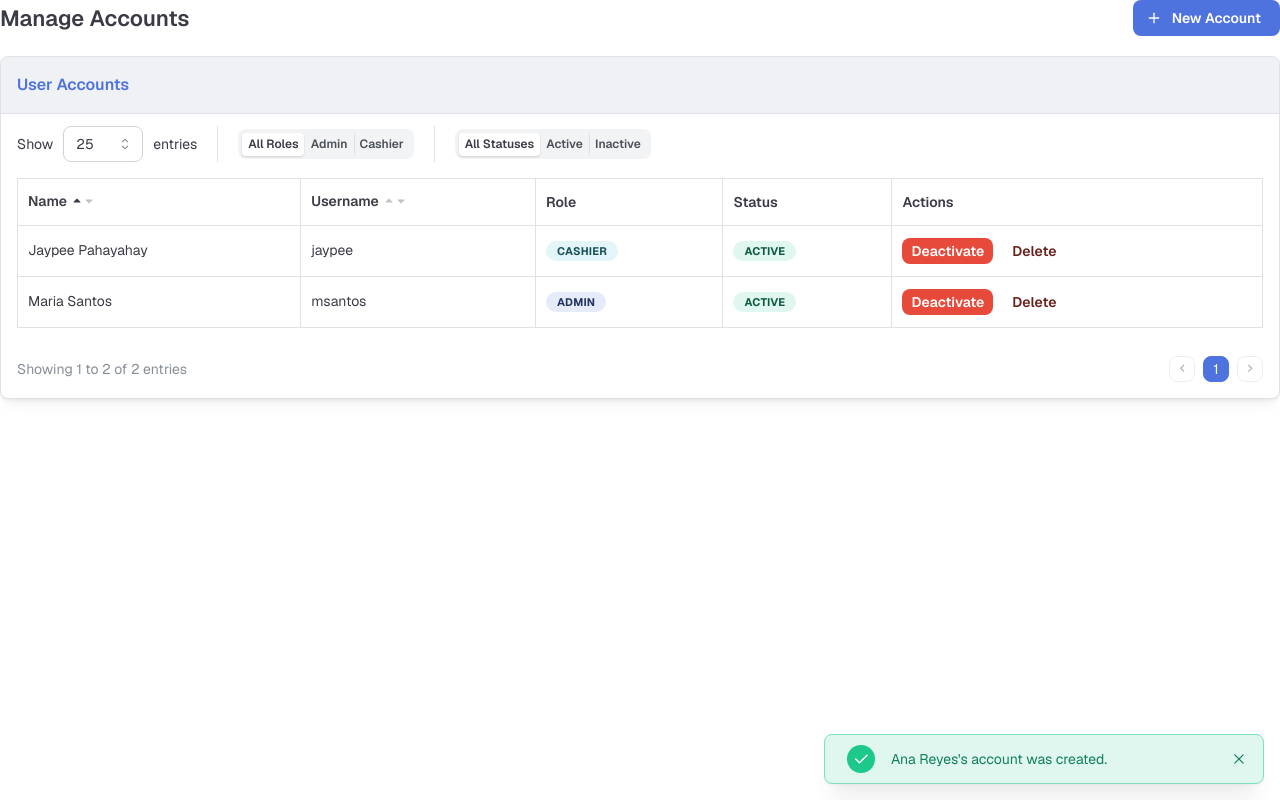
Scenario: ManageAccountsPage › shows the server's duplicate-username message against the username field
Expected: the text "Jaypee Pahayahay" is shown, [18,225,301,276]
Click the button "New Account" at (1206, 18), box [1133,0,1279,36]
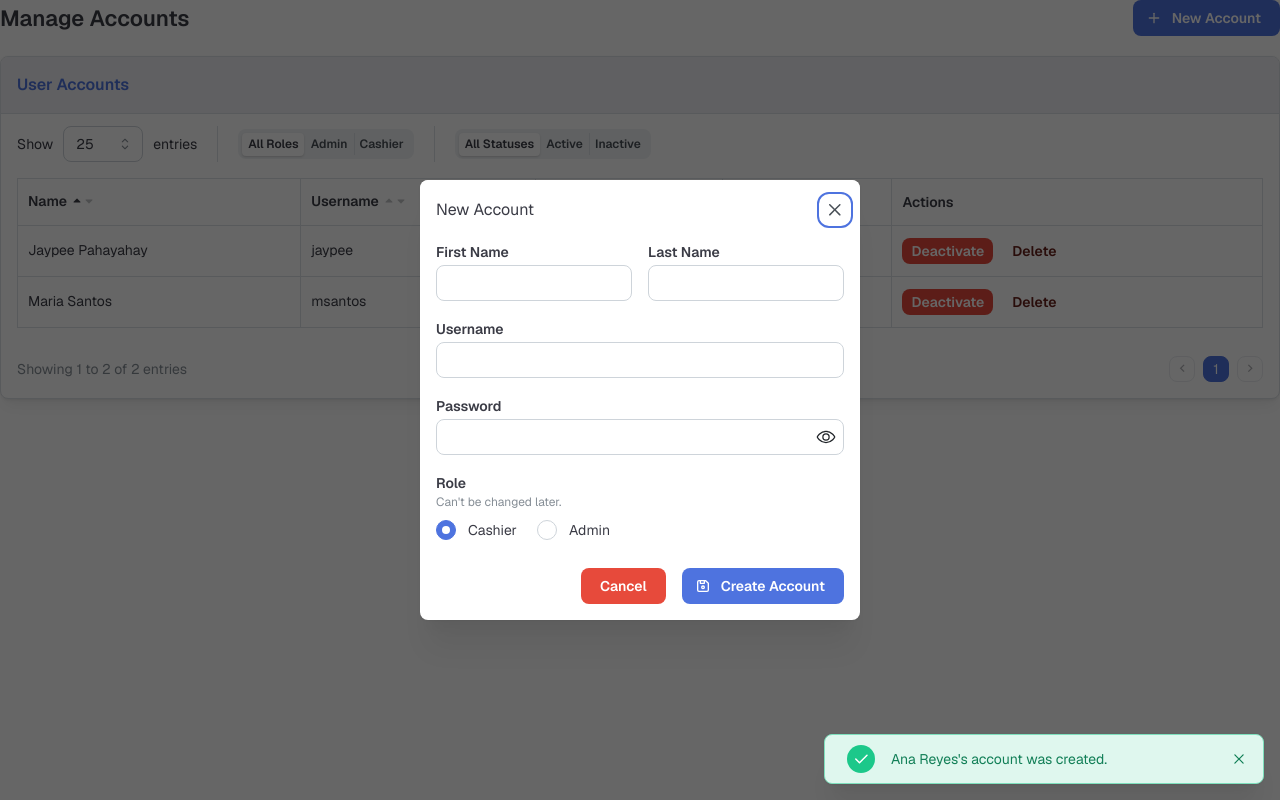
Expected: the field labelled "First Name" is shown
Type "Ana" into the field labelled "First Name" at (534, 283), box [436,265,632,301]
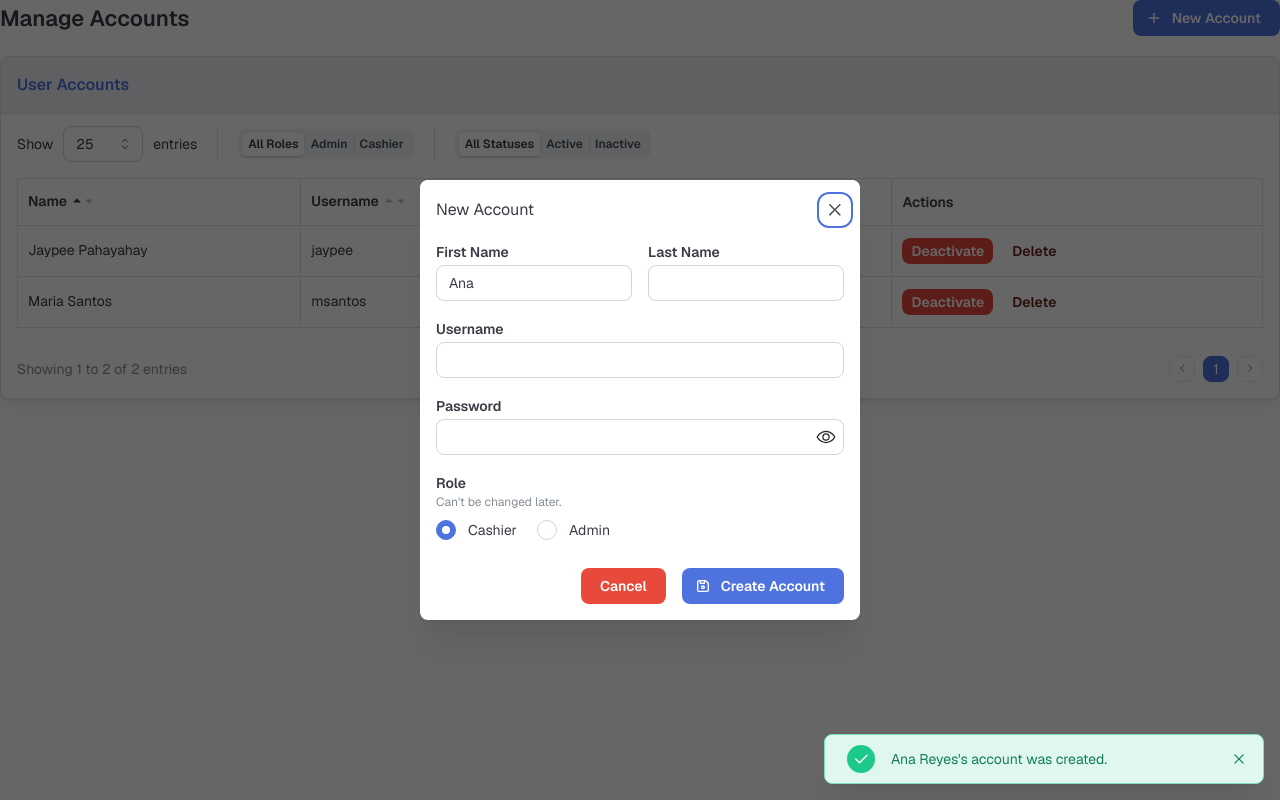
Type "Reyes" into the field labelled "Last Name" at (746, 283), box [648,265,844,301]
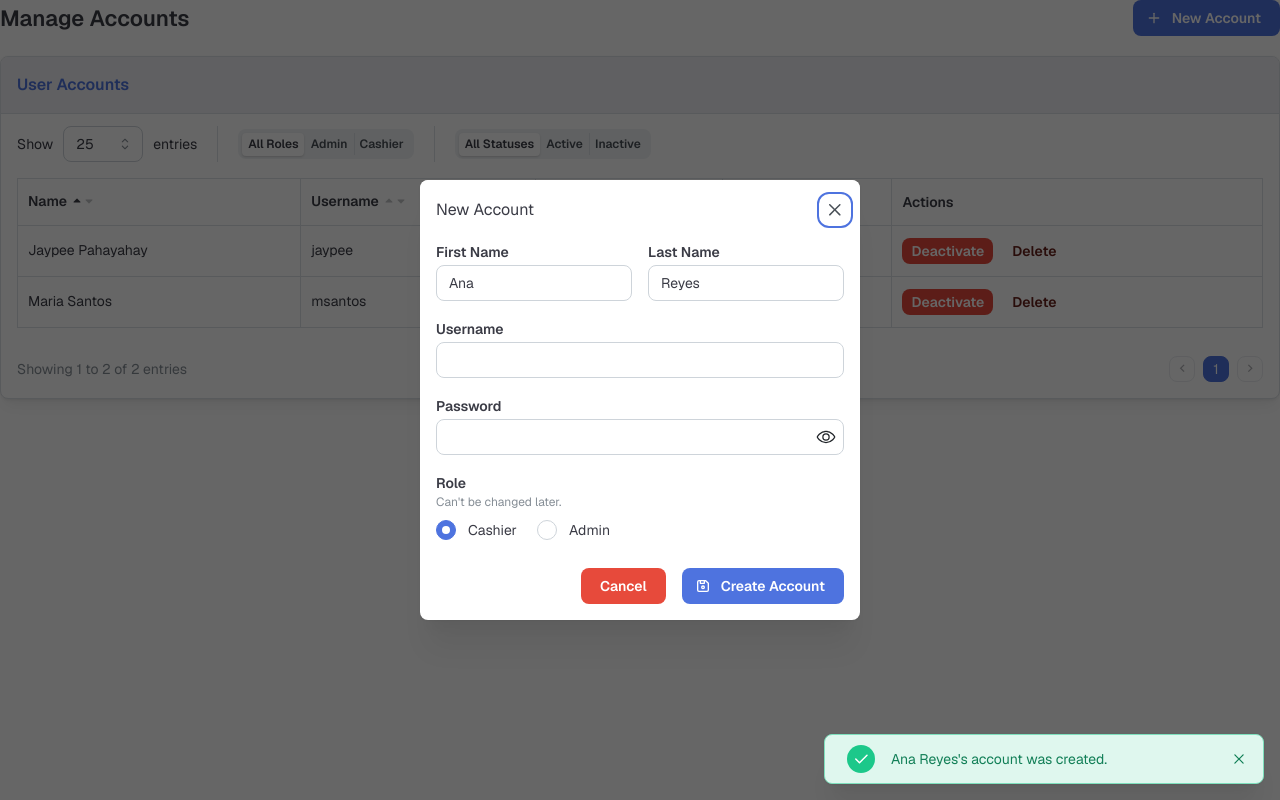
Type "jaypee" into the field labelled "Username" at (640, 360), box [436,342,844,378]
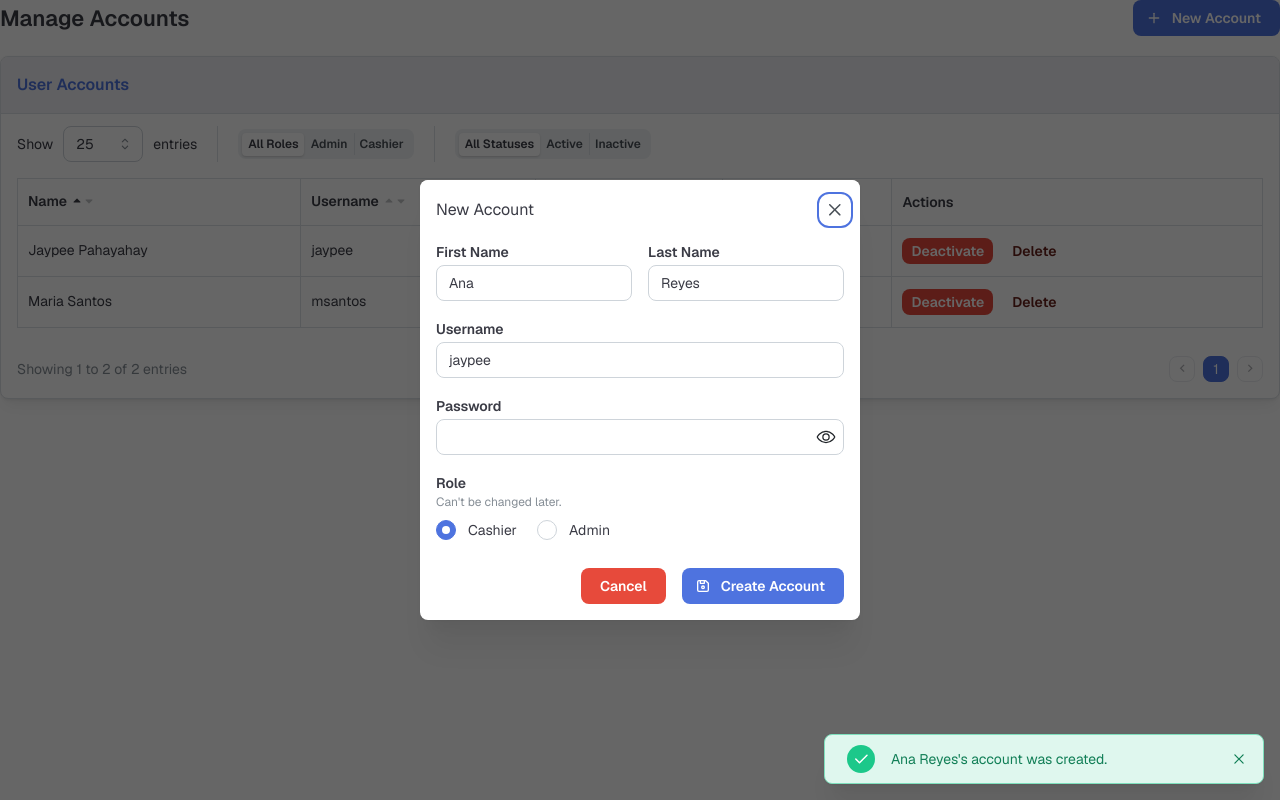
Type "sup3rsecret" into the password field labelled "Password" at (640, 437), box [437,420,843,454]
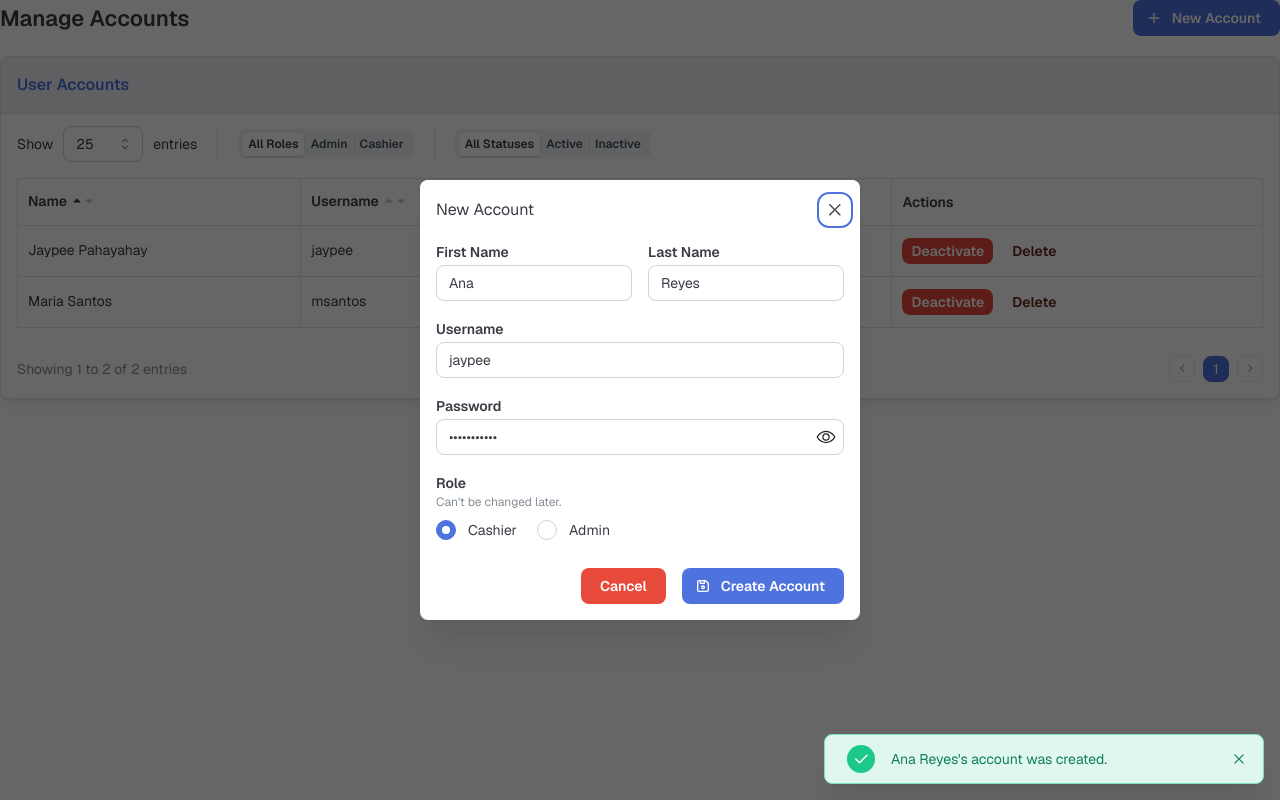
Click the button "Create Account" at (763, 586), box [682,568,844,604]
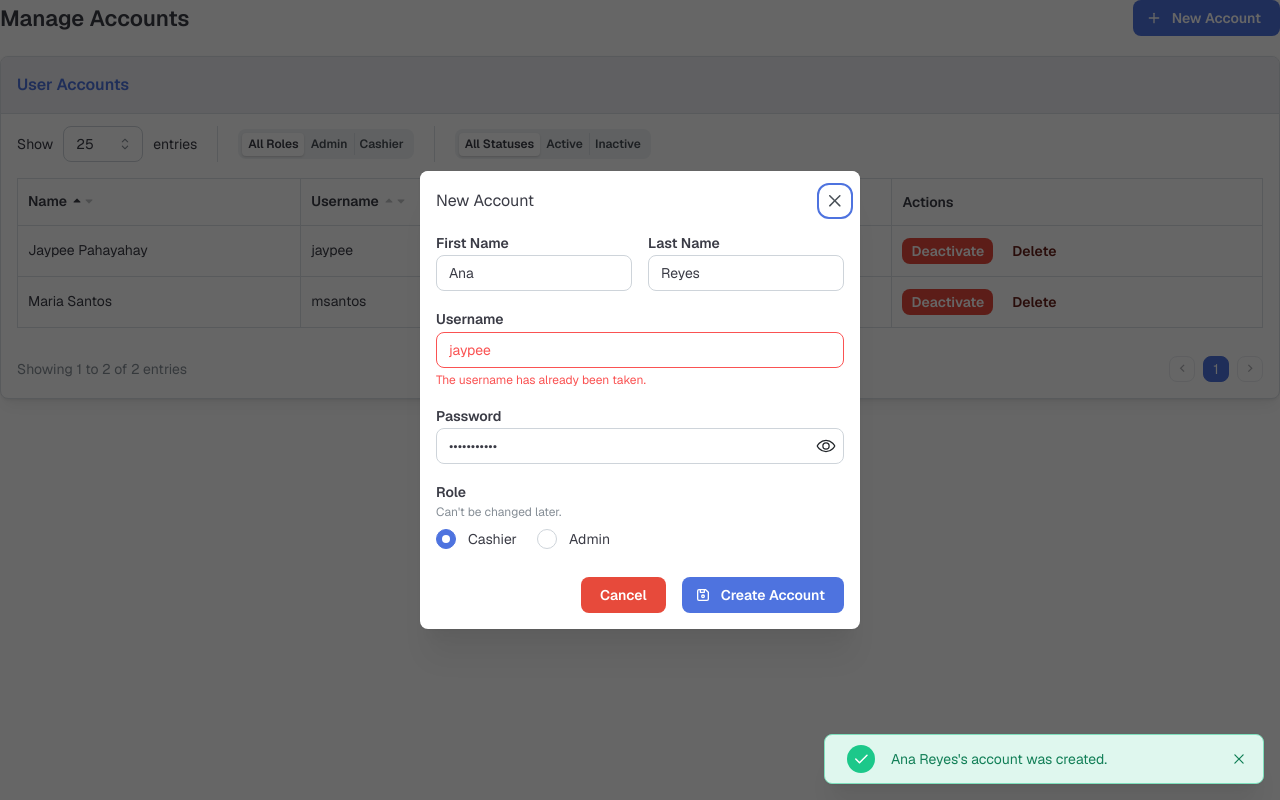
Expected: the text "The username has already been taken." is shown, [436,372,646,388]
